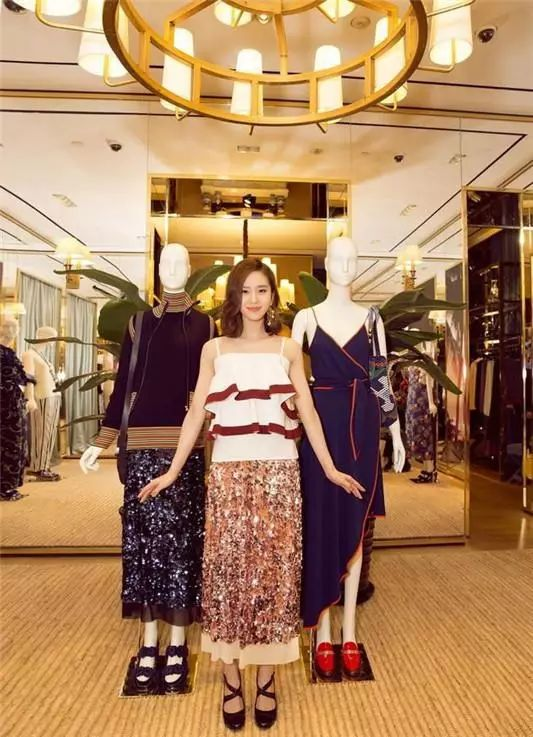other: (133, 258, 369, 737)
